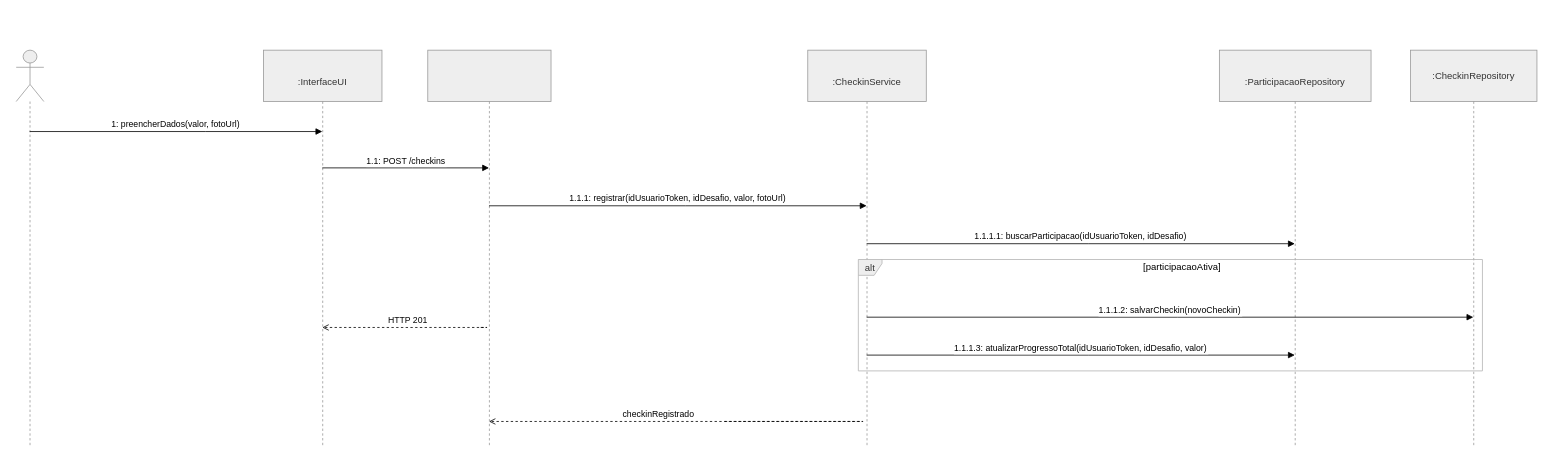
Some shapes in this 1551 by 460 pixel diagram are drawn without their labels. Here are the shapes that lost their labels. From the top down, the box of each, then its label:
(15, 49, 44, 446): umJog: Usuário
(427, 49, 551, 446): :CheckinController
